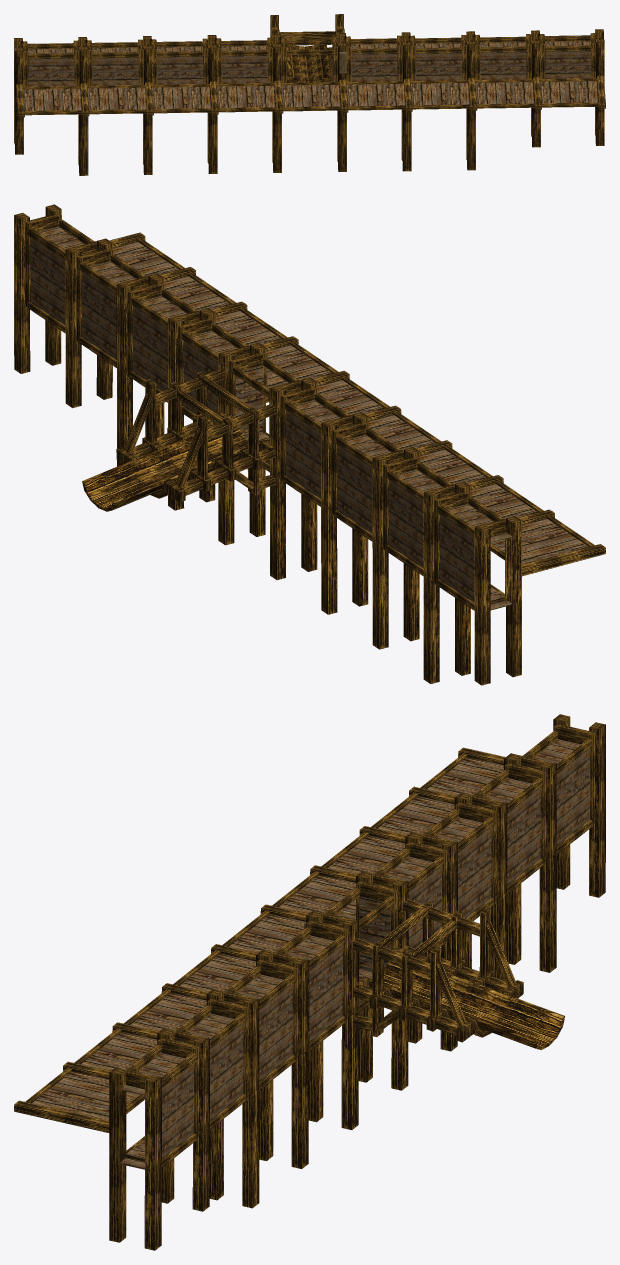
File: RM_PLAYSURFACE_FINAL_RM_SMALL_SLUCE.fbx
3 views of the same model, one above another, from view 1: azimuth 30°, elevation 25°; view 2: azimuth 150°, elevation 25°; view 3: azimuth 270°, elevation 25° (orthographic). The views are drawn at different scales.
Visible parts, largest first — view 1: RM_PLAYSURFACE_FINAL_RM_SMALL_SLUCE; view 2: RM_PLAYSURFACE_FINAL_RM_SMALL_SLUCE; view 3: RM_PLAYSURFACE_FINAL_RM_SMALL_SLUCE.
Boxes of the visible parts, x1,y1,x2,y2 form: RM_PLAYSURFACE_FINAL_RM_SMALL_SLUCE: (14, 14, 605, 175); RM_PLAYSURFACE_FINAL_RM_SMALL_SLUCE: (14, 204, 605, 685); RM_PLAYSURFACE_FINAL_RM_SMALL_SLUCE: (14, 714, 605, 1250).
Bounding box in the file's own units: 144071 × 35201 × 92534.
Materials: 3 (3 with a texture image).
